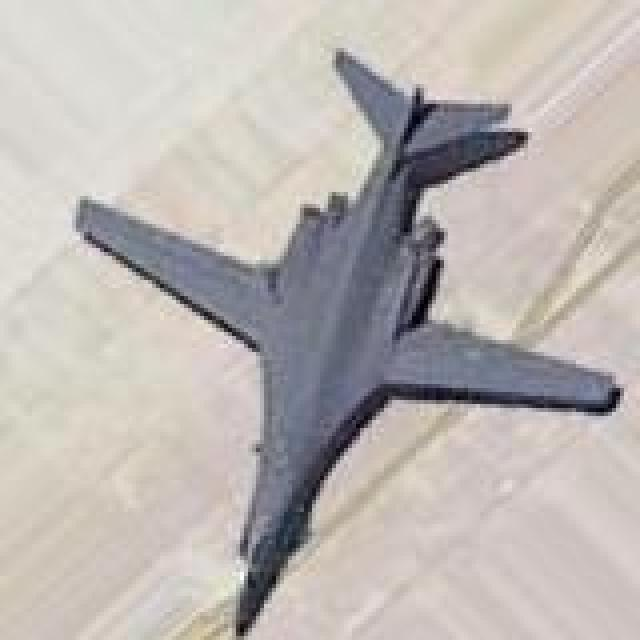B-1_TopDown: (68, 40, 624, 636)
